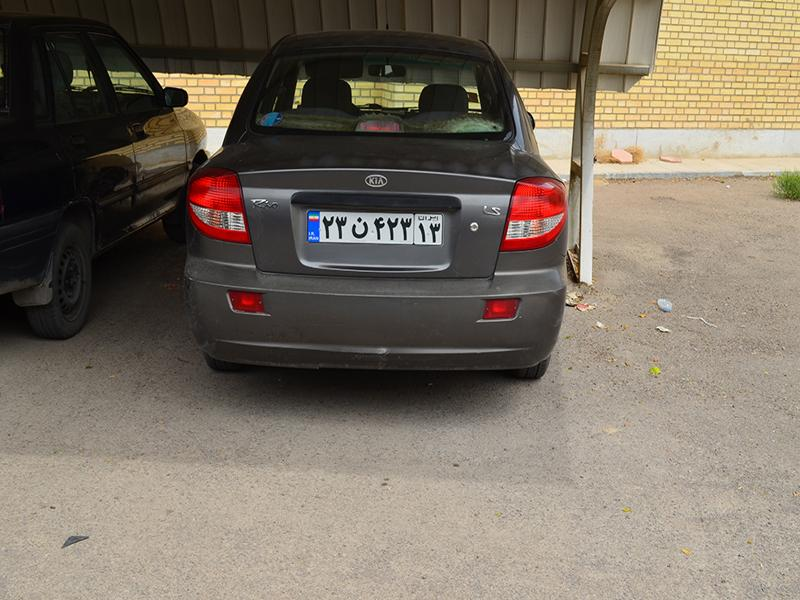Plate: (298, 202, 454, 257)
